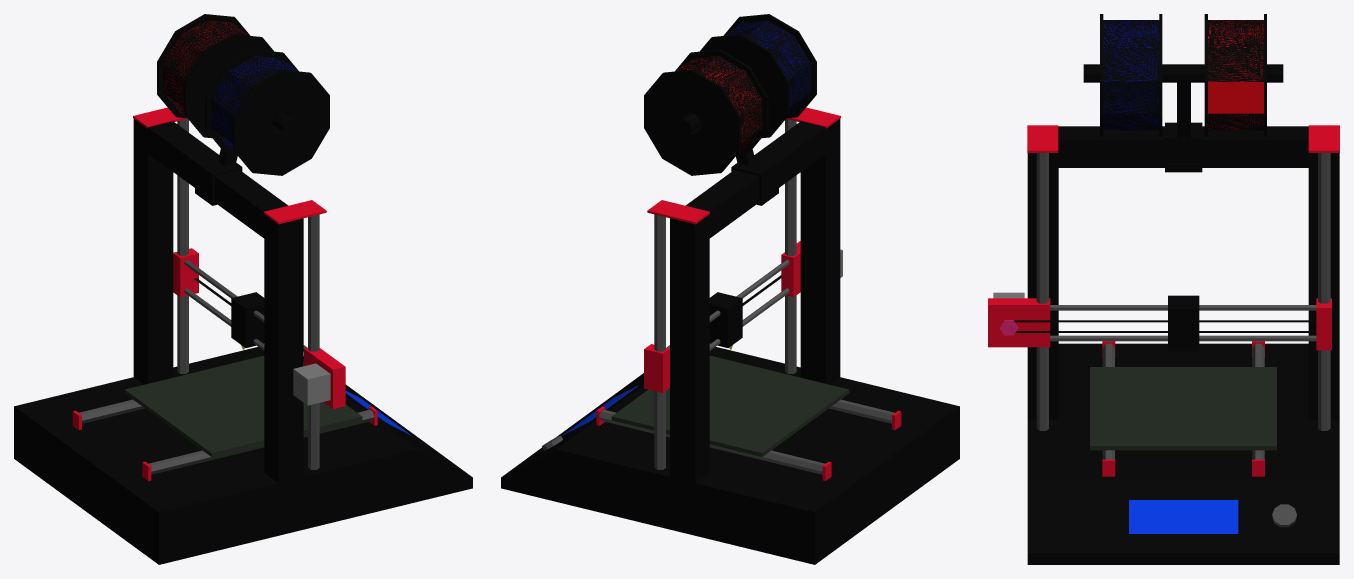
Rendered from 3D_Drucker.fbx.
3 renders of one model, left to right at view 1: azimuth 30°, elevation 25°; view 2: azimuth 150°, elevation 25°; view 3: azimuth 270°, elevation 25°, orthographic. The views are drawn at different scales.
Parts seen in each view (by area): view 1: Basis, Rahmen, Filamenthalter, Headpad, Y_Achse, Z_Achse_1, Z_Achse_2, Extruder, X_Achse_2, X_Achse_1; view 2: Basis, Rahmen, Filamenthalter, Headpad, Y_Achse, Z_Achse_2, Z_Achse_1, Extruder, X_Achse_1, X_Achse_2; view 3: Basis, Rahmen, Filamenthalter, Headpad, Y_Achse, Z_Achse_1, Z_Achse_2, Extruder.
Boxes of the visible parts, left/top/right/bottom form: Basis: left=14, top=347, right=472, bottom=564; Rahmen: left=133, top=107, right=326, bottom=485; Filamenthalter: left=157, top=14, right=329, bottom=205; Headpad: left=124, top=355, right=362, bottom=456; Y_Achse: left=173, top=248, right=345, bottom=408; Z_Achse_1: left=308, top=214, right=319, bottom=469; Z_Achse_2: left=177, top=119, right=188, bottom=373; Extruder: left=231, top=292, right=264, bottom=349; X_Achse_2: left=148, top=409, right=374, bottom=474; X_Achse_1: left=79, top=362, right=303, bottom=423; Basis: left=501, top=347, right=959, bottom=564; Rahmen: left=647, top=107, right=840, bottom=485; Filamenthalter: left=644, top=14, right=816, bottom=205; Headpad: left=611, top=355, right=849, bottom=456; Y_Achse: left=644, top=241, right=842, bottom=392; Z_Achse_2: left=654, top=214, right=665, bottom=469; Z_Achse_1: left=785, top=119, right=796, bottom=373; Extruder: left=709, top=292, right=742, bottom=349; X_Achse_1: left=599, top=409, right=825, bottom=474; X_Achse_2: left=829, top=399, right=894, bottom=423; Basis: left=1027, top=341, right=1339, bottom=564; Rahmen: left=1027, top=125, right=1339, bottom=419; Filamenthalter: left=1083, top=14, right=1283, bottom=172; Headpad: left=1090, top=367, right=1276, bottom=450; Y_Achse: left=988, top=292, right=1331, bottom=350; Z_Achse_1: left=1036, top=153, right=1048, bottom=430; Z_Achse_2: left=1318, top=153, right=1330, bottom=430; Extruder: left=1168, top=295, right=1199, bottom=351.
Size of the model in its own units: 62.5 by 82.06 by 56.43.
